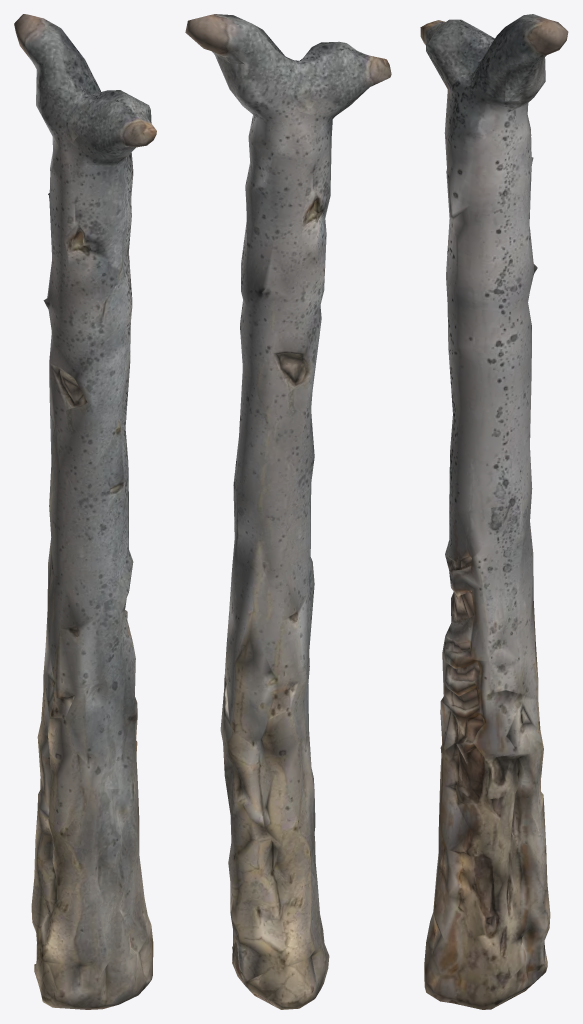
File: dead_quiver_trunk.glb
The picture shows the model from 3 angles, left to right: view 1: azimuth 90°, elevation 25°; view 2: azimuth 150°, elevation 25°; view 3: azimuth 270°, elevation 25°; orthographic projection. The views are drawn at different scales.
Parts seen in each view (by area): view 1: dead_quiver_trunk_LOD0; view 2: dead_quiver_trunk_LOD0; view 3: dead_quiver_trunk_LOD0.
Boxes of the visible parts, left/top/right/bottom form: dead_quiver_trunk_LOD0: left=14, top=14, right=156, bottom=1009; dead_quiver_trunk_LOD0: left=185, top=14, right=391, bottom=1009; dead_quiver_trunk_LOD0: left=420, top=14, right=568, bottom=1009.
Size of the model in its own units: 0.3053 by 1.99 by 0.2681.
1 material, 1 textured.
